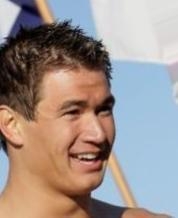face: (61, 99, 115, 168)
